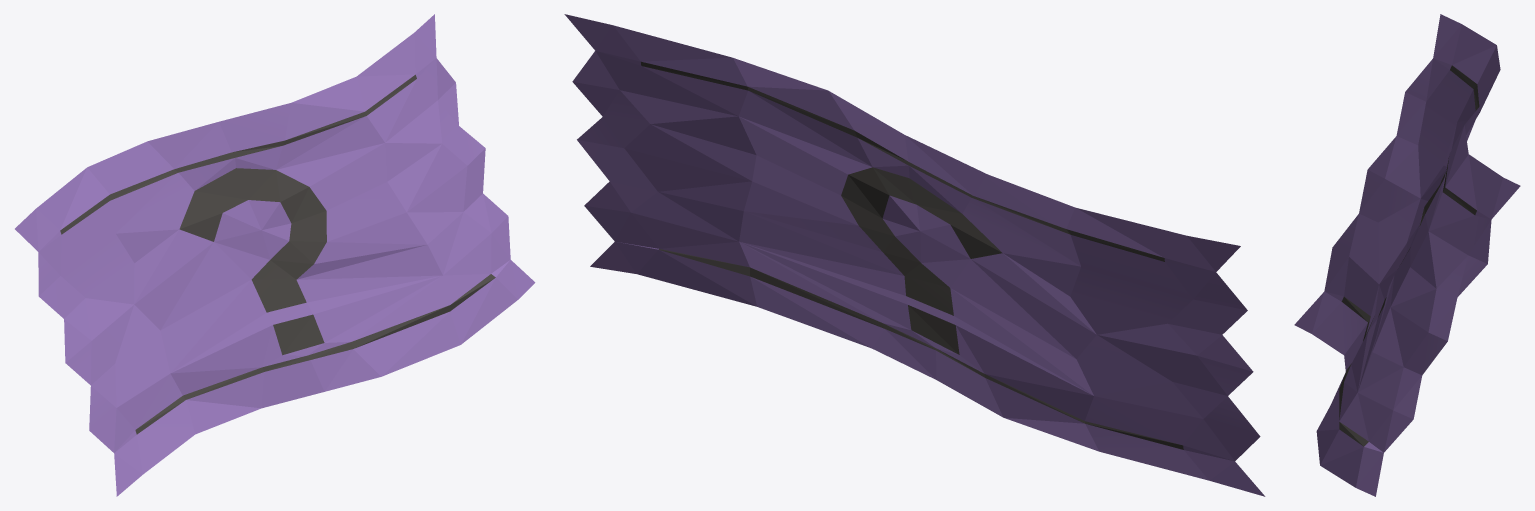
The model's file is carnivalTicket.fbx.
3 renders of one model, left to right at view 1: azimuth 30°, elevation 25°; view 2: azimuth 150°, elevation 25°; view 3: azimuth 270°, elevation 25°, orthographic. The views are drawn at different scales.
Visible parts, largest first — view 1: carnivalTicket; view 2: carnivalTicket; view 3: carnivalTicket.
Part boxes in pixels (x1,y1,x2,y2): carnivalTicket: [15, 14, 535, 496]; carnivalTicket: [564, 14, 1265, 496]; carnivalTicket: [1294, 14, 1520, 496].
Size of the model in its own units: 1.91 by 1.16 by 0.623.
1 material, 1 textured.
